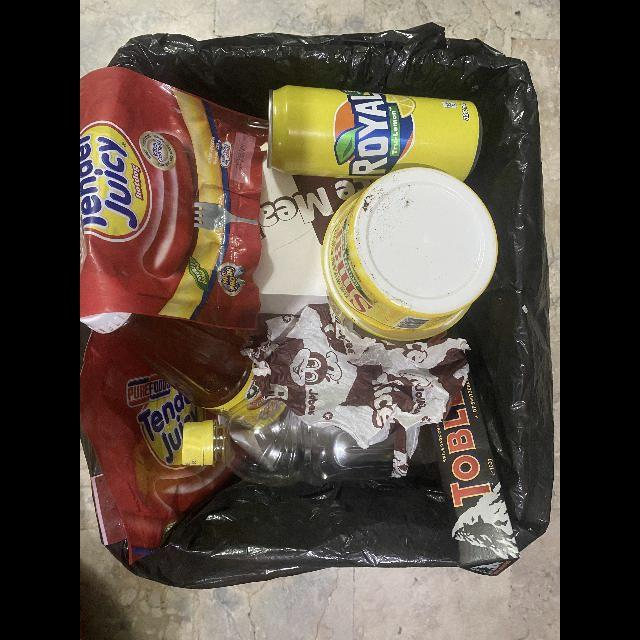aluminum: (269, 86, 482, 180)
cardboard: (439, 373, 519, 569)
food_wrapper: (80, 66, 269, 329), (80, 329, 228, 564), (242, 306, 468, 444)
glass_bottle: (80, 290, 291, 439)
plastic_bottle: (320, 167, 498, 340)
